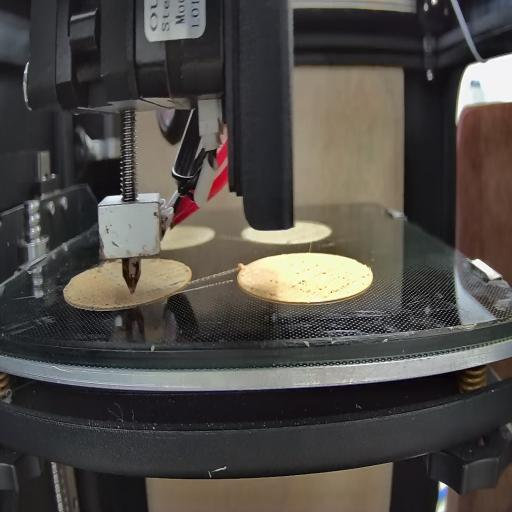under_extrusion: (290, 256, 368, 298), (69, 284, 125, 311), (247, 268, 282, 300), (156, 267, 194, 289)
